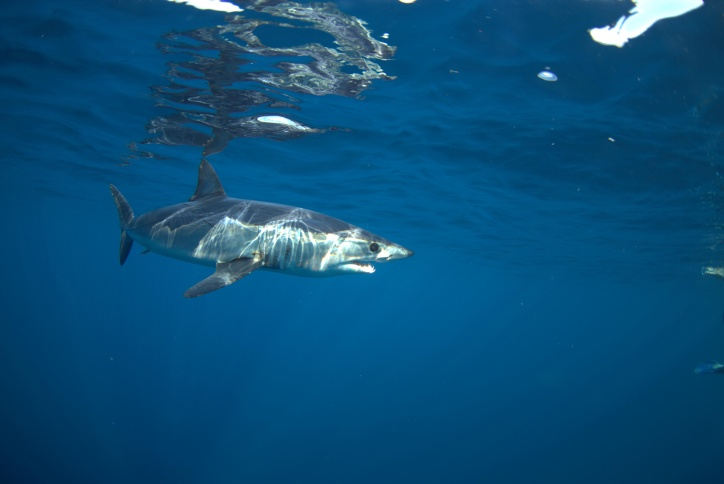Mako: (85, 158, 426, 301)
